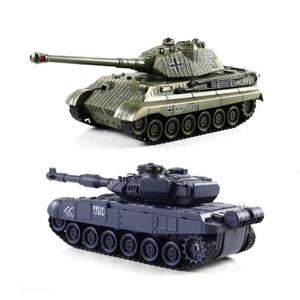Battle Tank: (45, 156, 265, 271), (53, 37, 267, 147)
